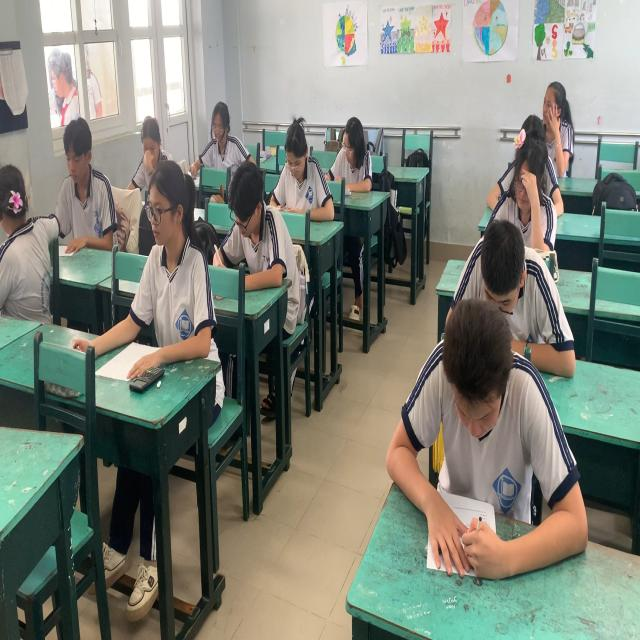cheating: (0, 137, 58, 334)
not_cheating: (431, 294, 545, 530), (134, 155, 214, 356), (468, 213, 544, 345), (59, 110, 115, 254), (226, 152, 280, 285), (278, 117, 332, 238), (500, 129, 552, 239), (328, 110, 374, 215), (123, 104, 169, 192), (538, 64, 577, 163), (202, 92, 237, 184)
